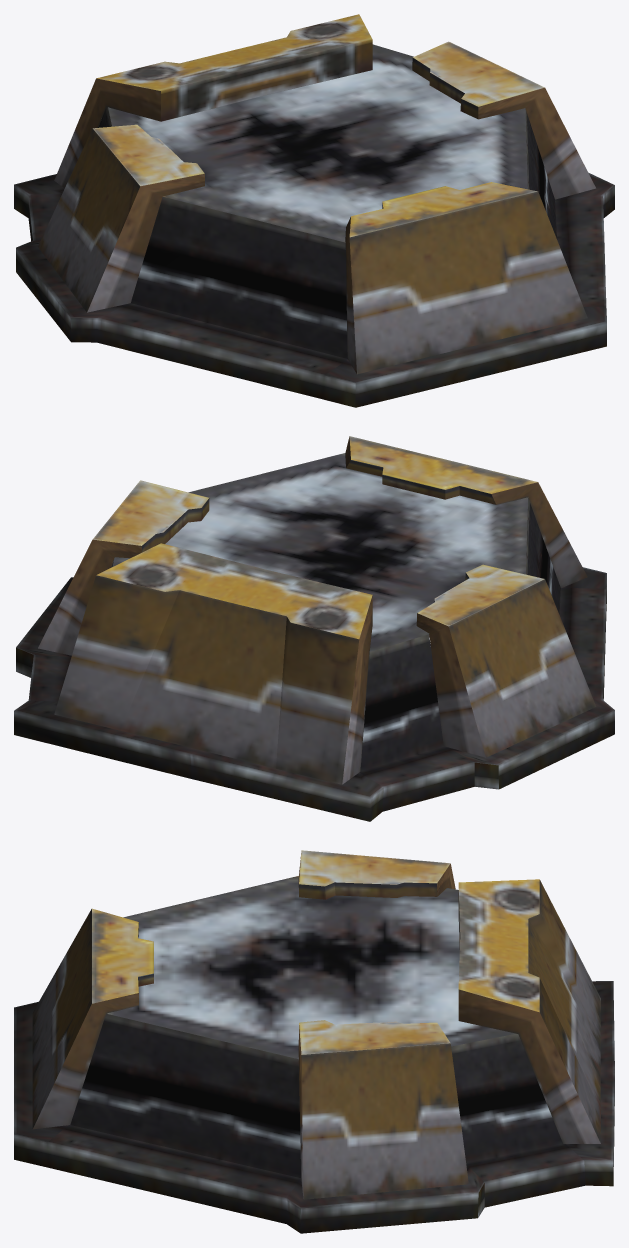
The model's file is yw_wanglingzhita_jinshuwujian.FBX.
3 renders of one model, top to bottom at view 1: azimuth 30°, elevation 25°; view 2: azimuth 150°, elevation 25°; view 3: azimuth 270°, elevation 25°, orthographic. The views are drawn at different scales.
Parts seen in each view (by area): view 1: yw_wanglingzhita_jinshuwujian; view 2: yw_wanglingzhita_jinshuwujian; view 3: yw_wanglingzhita_jinshuwujian.
Boxes of the visible parts, <box> form: yw_wanglingzhita_jinshuwujian: <box>14,14,614,407</box>; yw_wanglingzhita_jinshuwujian: <box>14,436,614,821</box>; yw_wanglingzhita_jinshuwujian: <box>14,850,614,1233</box>.
Bounding box in the file's own units: 396 × 108 × 366.
